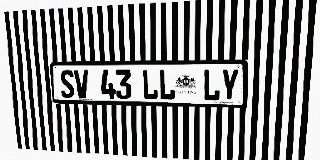3: (115, 69, 131, 99)
4: (100, 70, 116, 99)
L: (202, 69, 220, 101), (158, 69, 175, 100), (142, 69, 158, 100)
S: (59, 70, 75, 98)
V: (74, 70, 90, 99)
Y: (220, 69, 239, 101)
